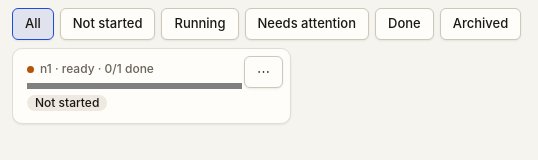
Scenario: the group list (spec §6.4) › says when no group matches the chosen chip
The image size is (538, 160).
Click the button "Done". click: x=404, y=24
box: [375,8,434,40]
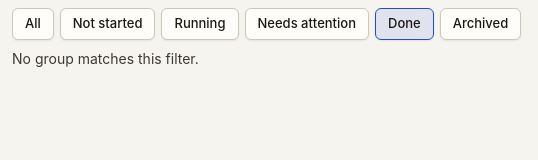
Result: the text "No group matches this filter." is shown at [12,50,199,67]
